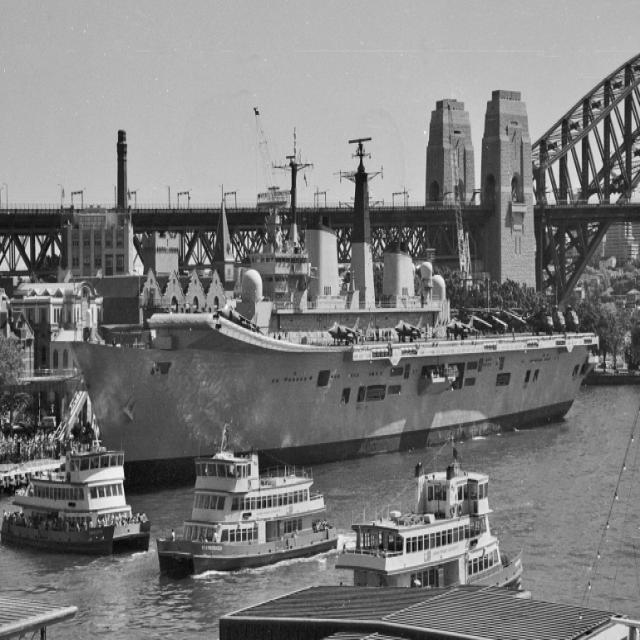Portanaves: (67, 123, 607, 501)
